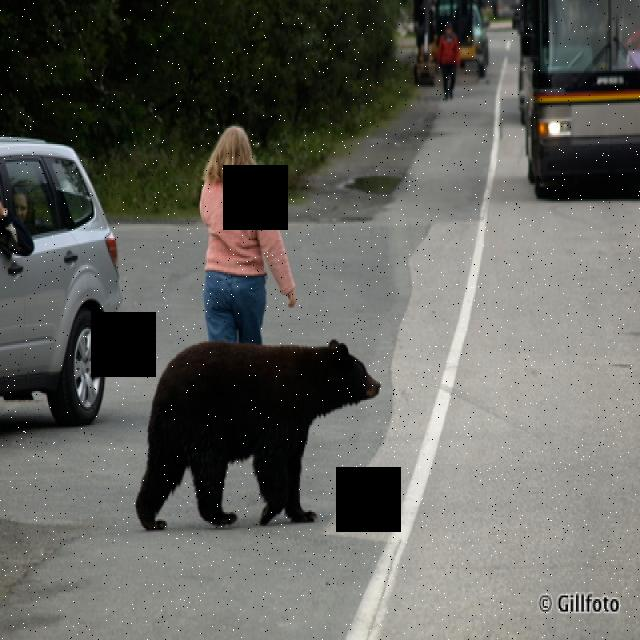Bear: (132, 337, 385, 528)
